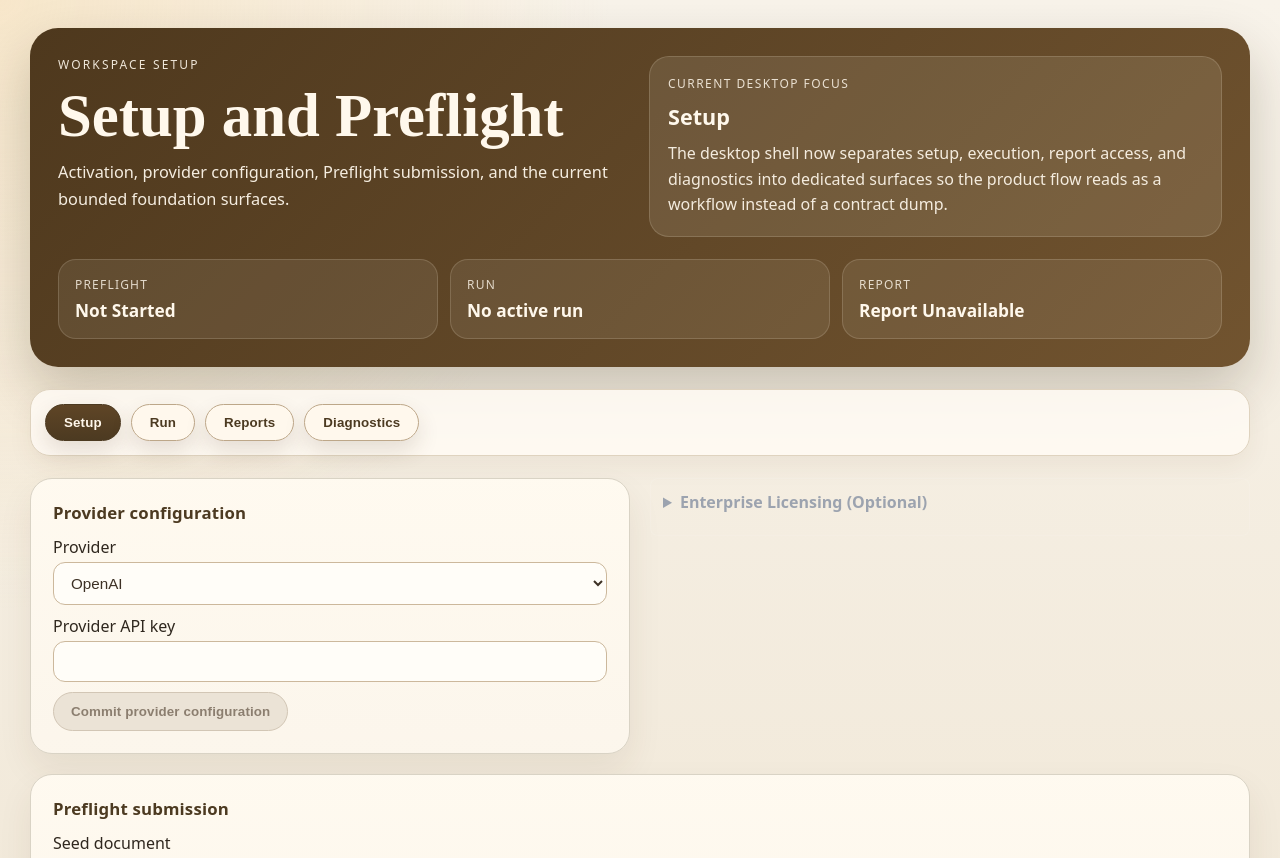
Scenario: App Wave 10 diagnostics › lets diagnostics promote an available updater candidate into UpdateReady through the explicit prepare command
Click the button "Diagnostics": point(362, 422) x1=304 y1=404 x2=419 y2=441
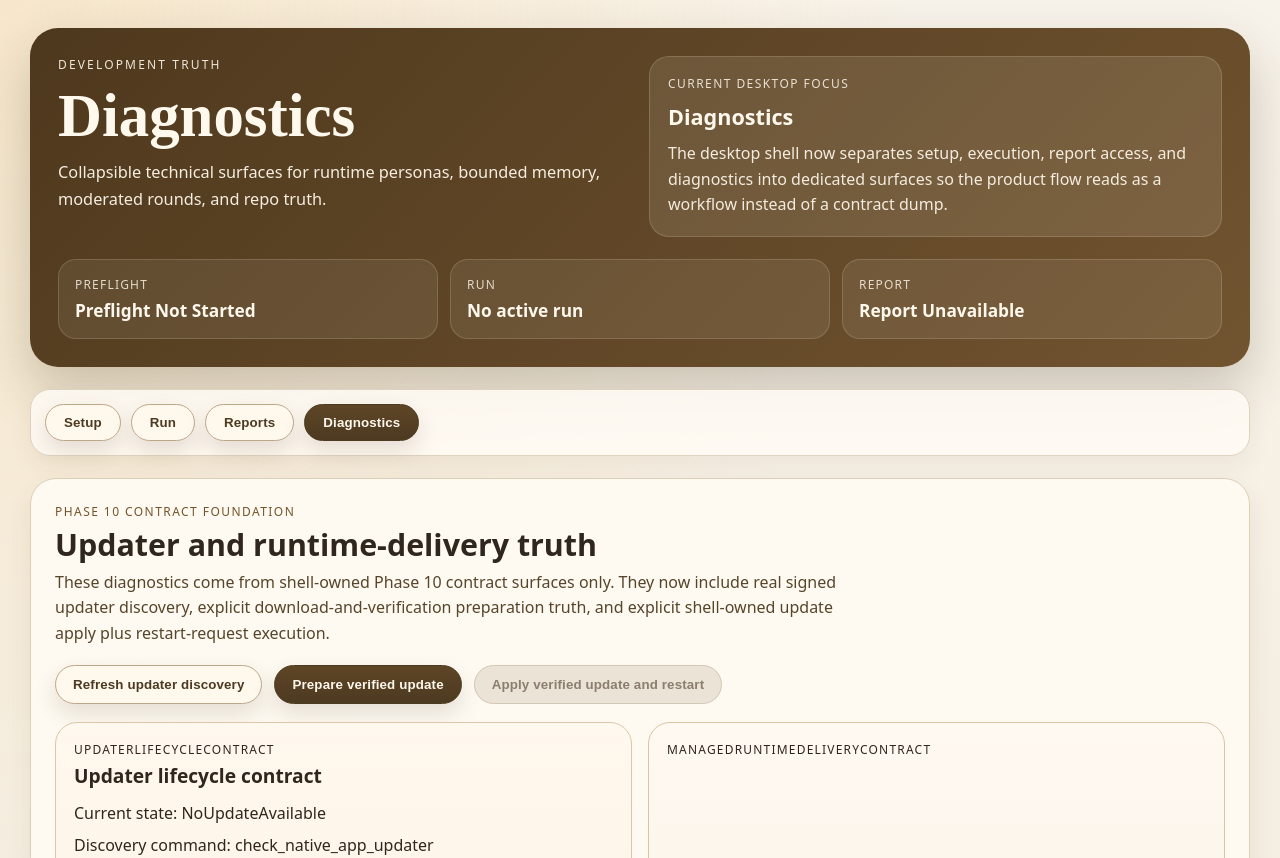
Now the button "Prepare verified update" is shown
Click the button "Prepare verified update": point(368, 684) x1=274 y1=665 x2=462 y2=704
(page scrolled)
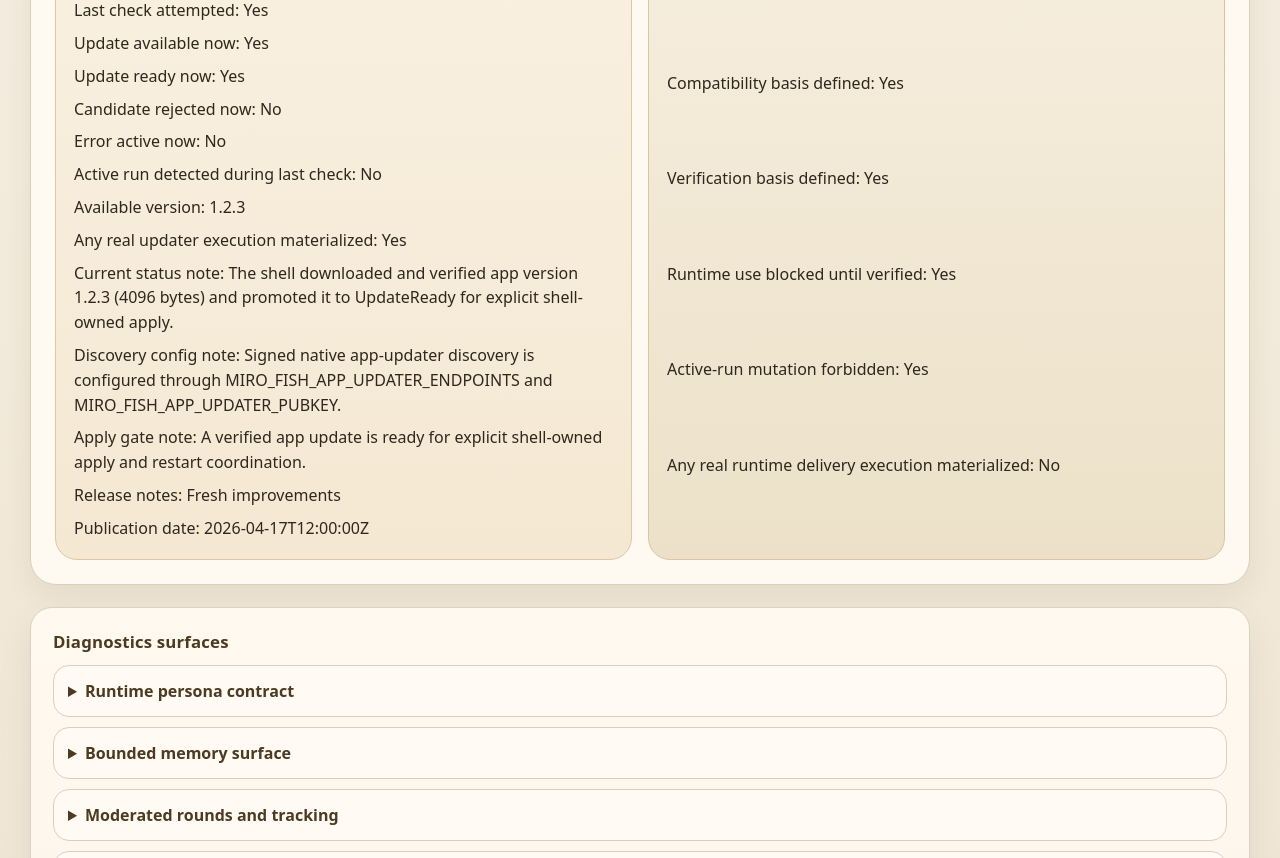
Now the text "Update ready now: Yes" is shown, box x1=74 y1=65 x2=245 y2=87
Now the text "Apply gate note: A verified app update is ready for explicit shell-owned apply and restart coordination." is shown, box x1=74 y1=425 x2=613 y2=475
